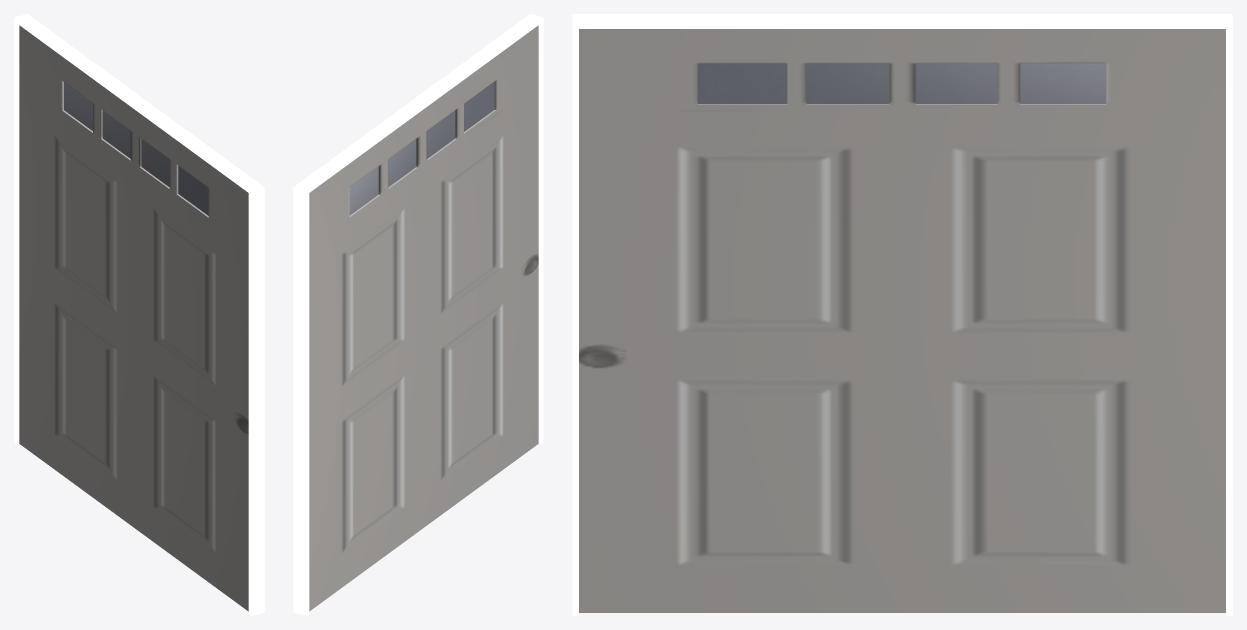
The model's file is 4lite-walk-door.e664f19b.gltf.
3 renders of one model, left to right at view 1: azimuth 30°, elevation 25°; view 2: azimuth 150°, elevation 25°; view 3: azimuth 270°, elevation 25°, orthographic. The views are drawn at different scales.
Visible parts, largest first — view 1: doors, trims, Glass; view 2: doors, trims, Glass; view 3: doors, trims, Glass.
Boxes of the visible parts, left/top/right/bottom form: doors: left=19, top=25, right=248, bottom=611; trims: left=14, top=14, right=264, bottom=615; Glass: left=64, top=82, right=208, bottom=215; doors: left=309, top=25, right=538, bottom=611; trims: left=293, top=14, right=543, bottom=615; Glass: left=349, top=82, right=494, bottom=215; doors: left=579, top=29, right=1225, bottom=612; trims: left=572, top=14, right=1232, bottom=615; Glass: left=697, top=63, right=1105, bottom=104.
Size of the model in its own units: 0.2 by 6.01 by 6.07.
Materials: 3 (2 with a texture image).
